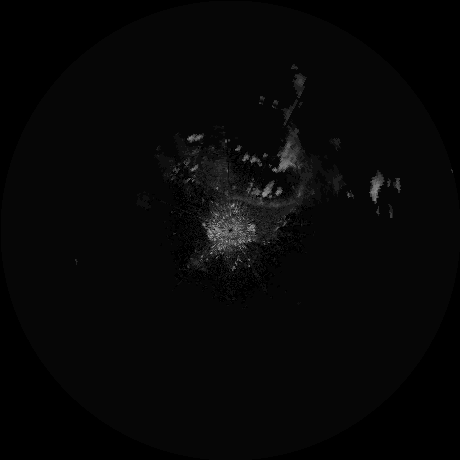frontgust: (234, 194, 295, 208)
